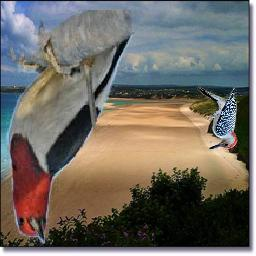Woodpecker: (2, 10, 139, 252), (194, 83, 240, 152)
